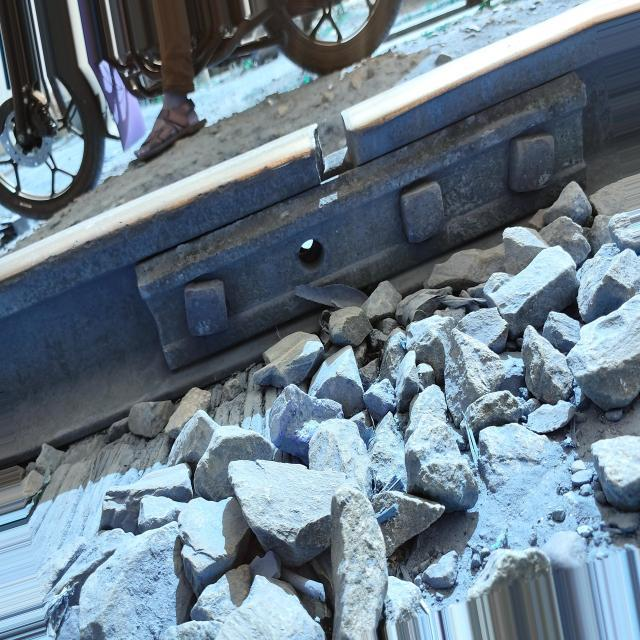Defective Joint: (138, 66, 590, 373)
